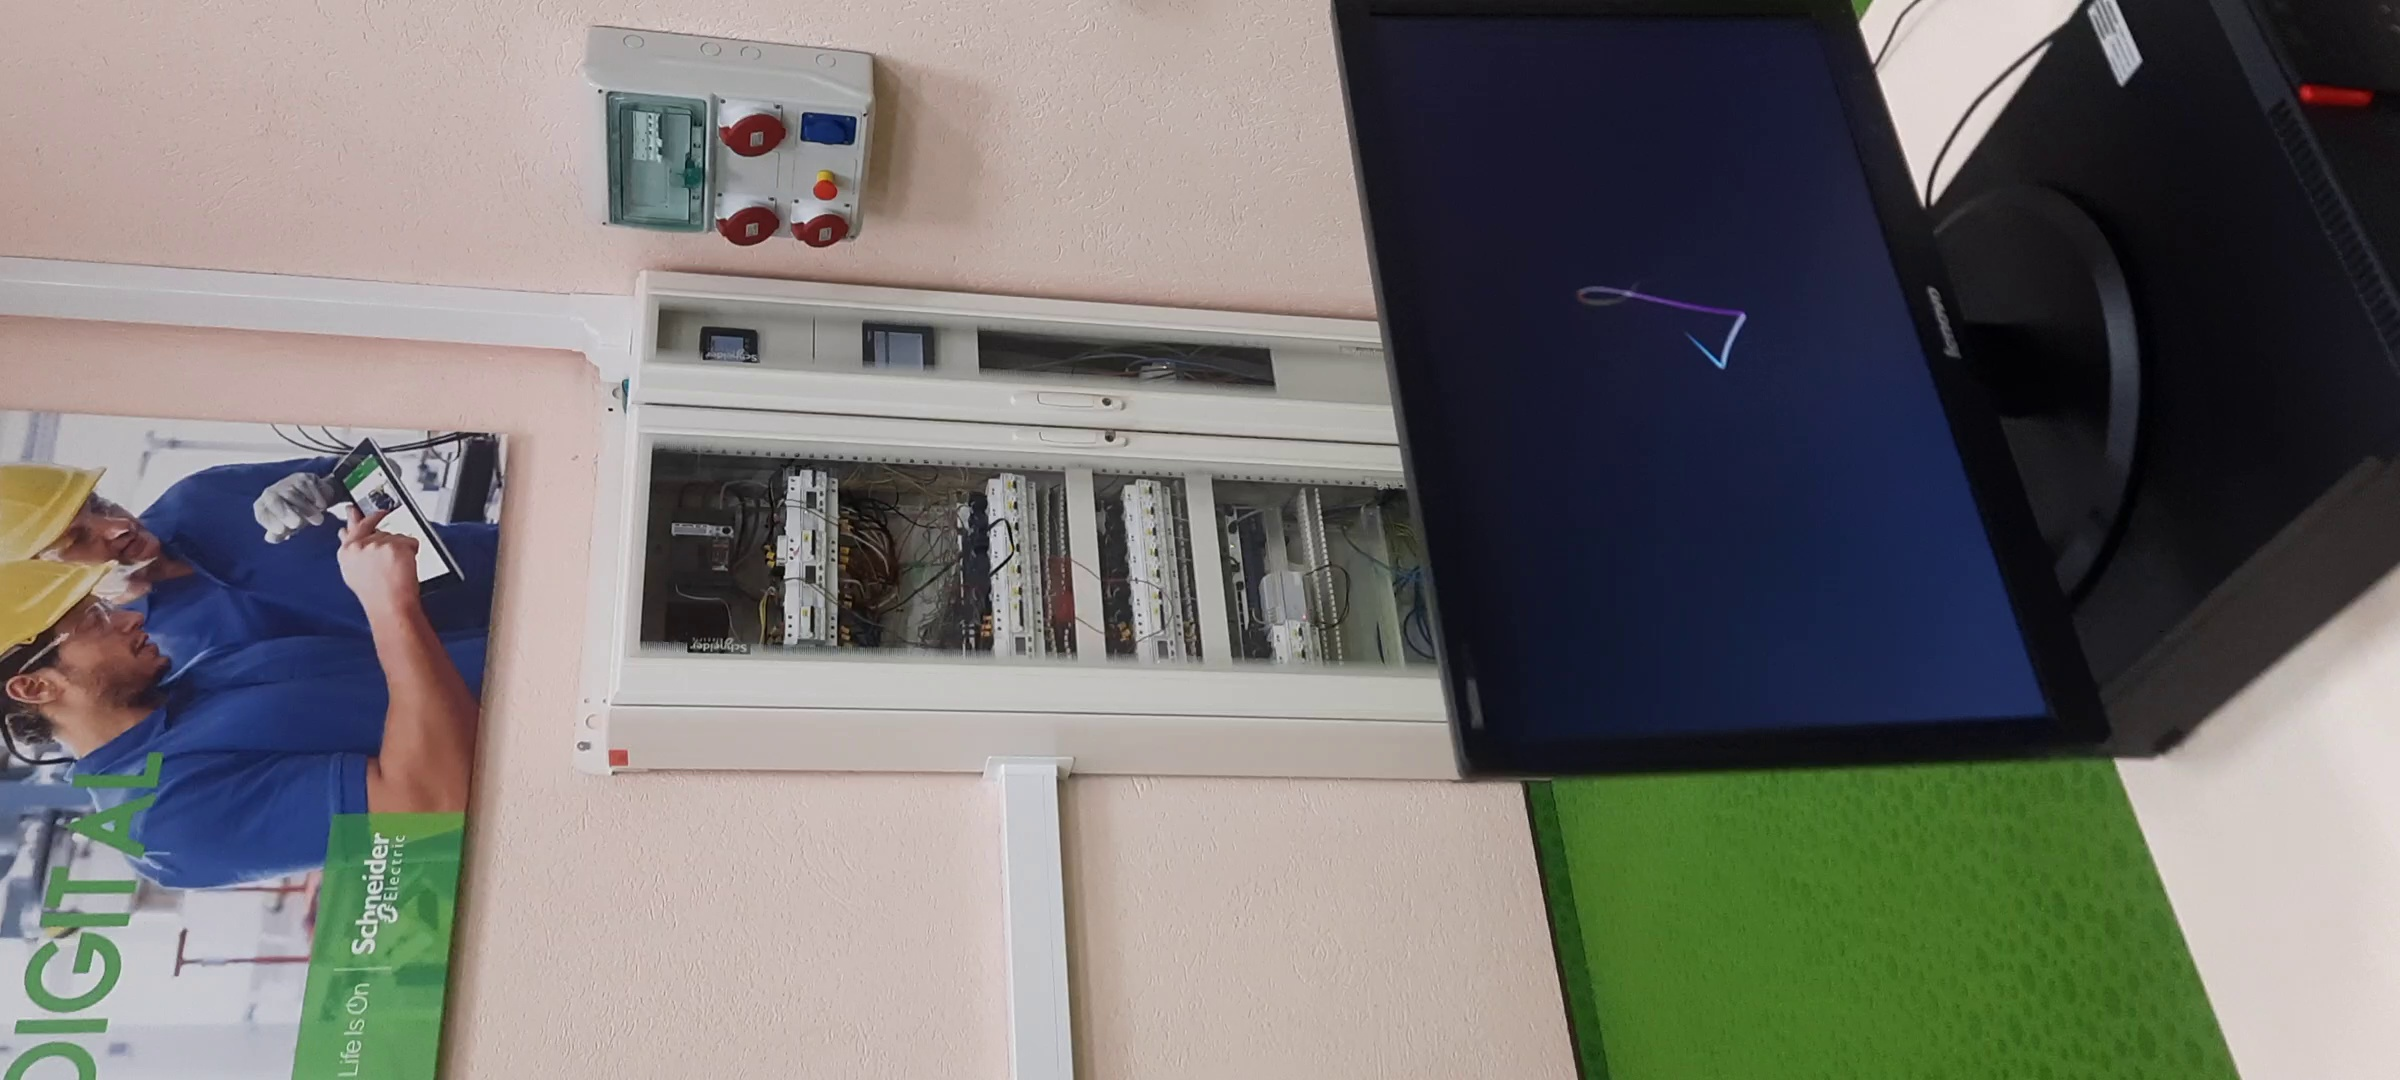stand1: (611, 269, 1436, 779)
